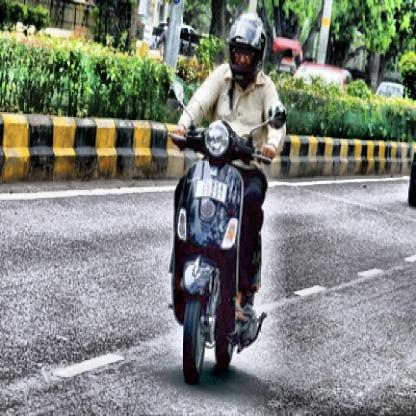wear: (230, 15, 261, 90)
